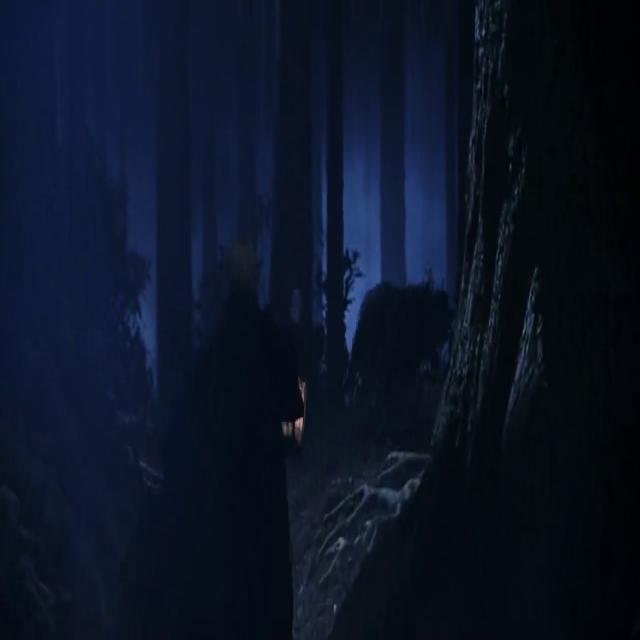Dog: (342, 255, 488, 472)
